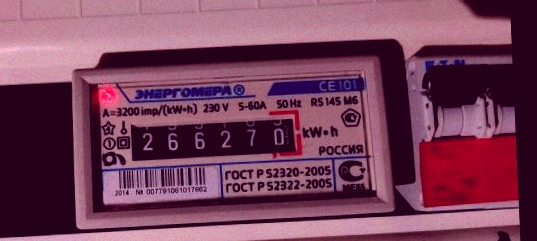0: (271, 125, 284, 147)
2: (139, 130, 154, 151), (218, 127, 231, 149)
6: (165, 131, 179, 151), (191, 130, 205, 149)
7: (243, 126, 257, 148)
screen: (119, 105, 308, 170)
